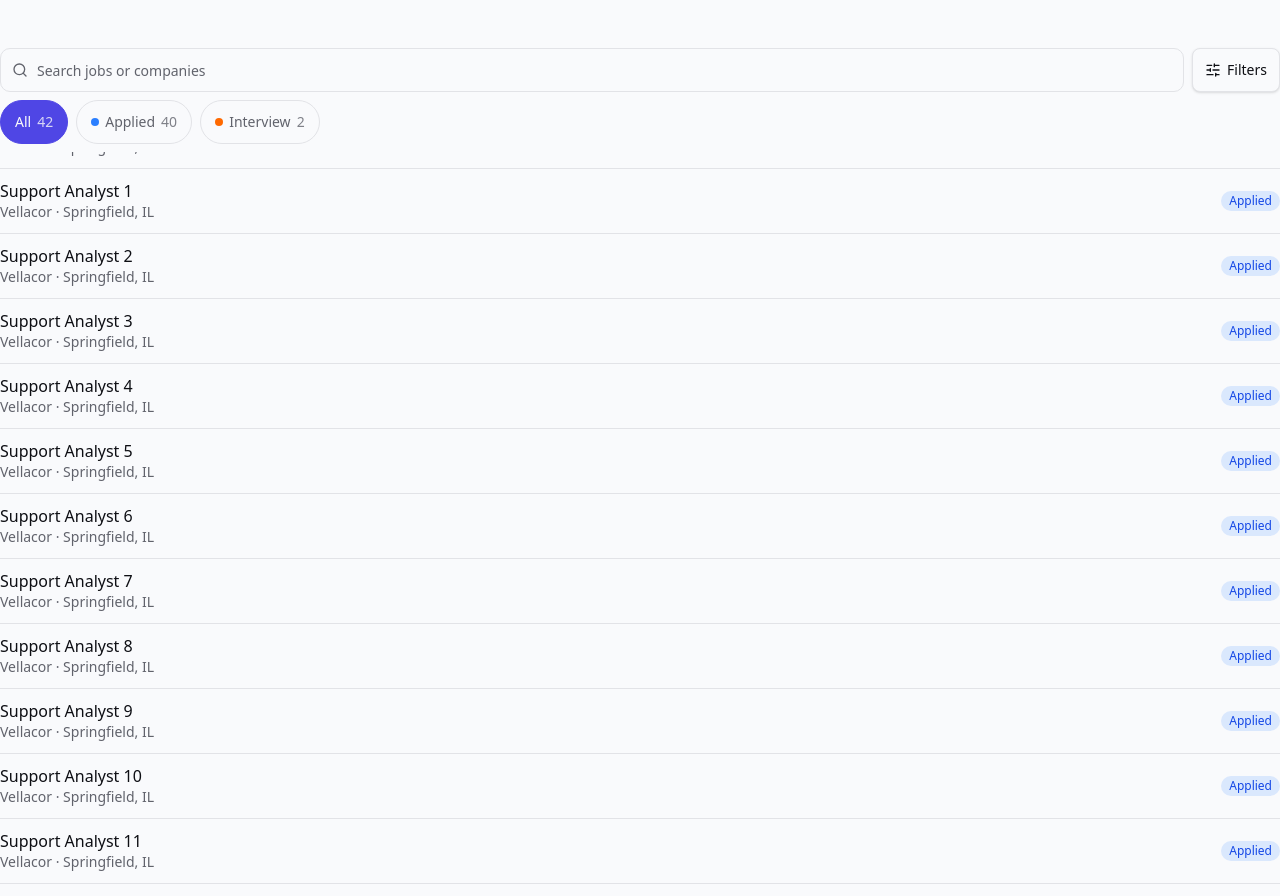
Test: PhoneJobList › the filter sheet says how many jobs it will show, and Clear undoes it
The image size is (1280, 896).
Click the button "Filters" at (1236, 70), box [1192,48,1279,92]
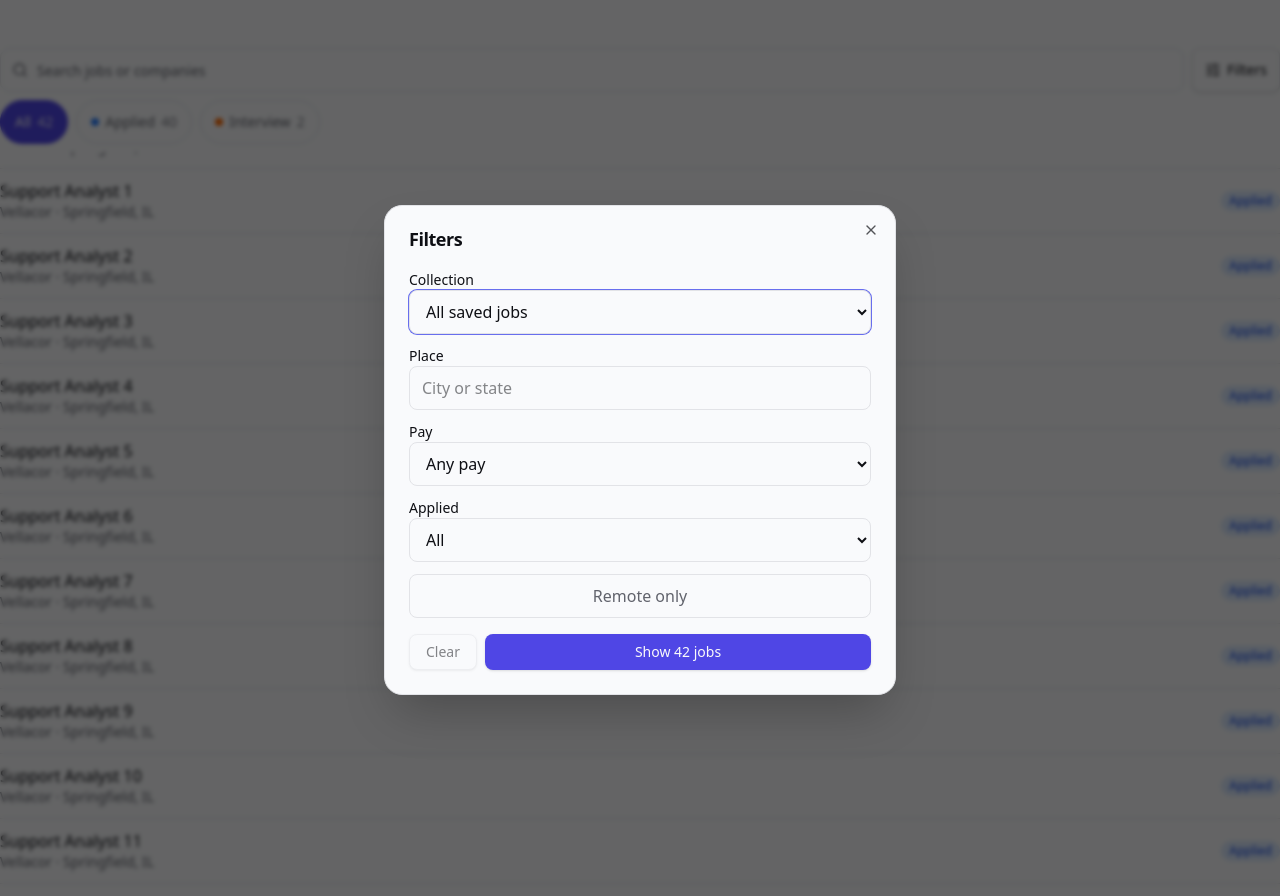
Result: the button "Show 42 jobs" is shown at [485,634,871,670]
Click the button "Remote only" at (640, 596), box [409,574,871,618]
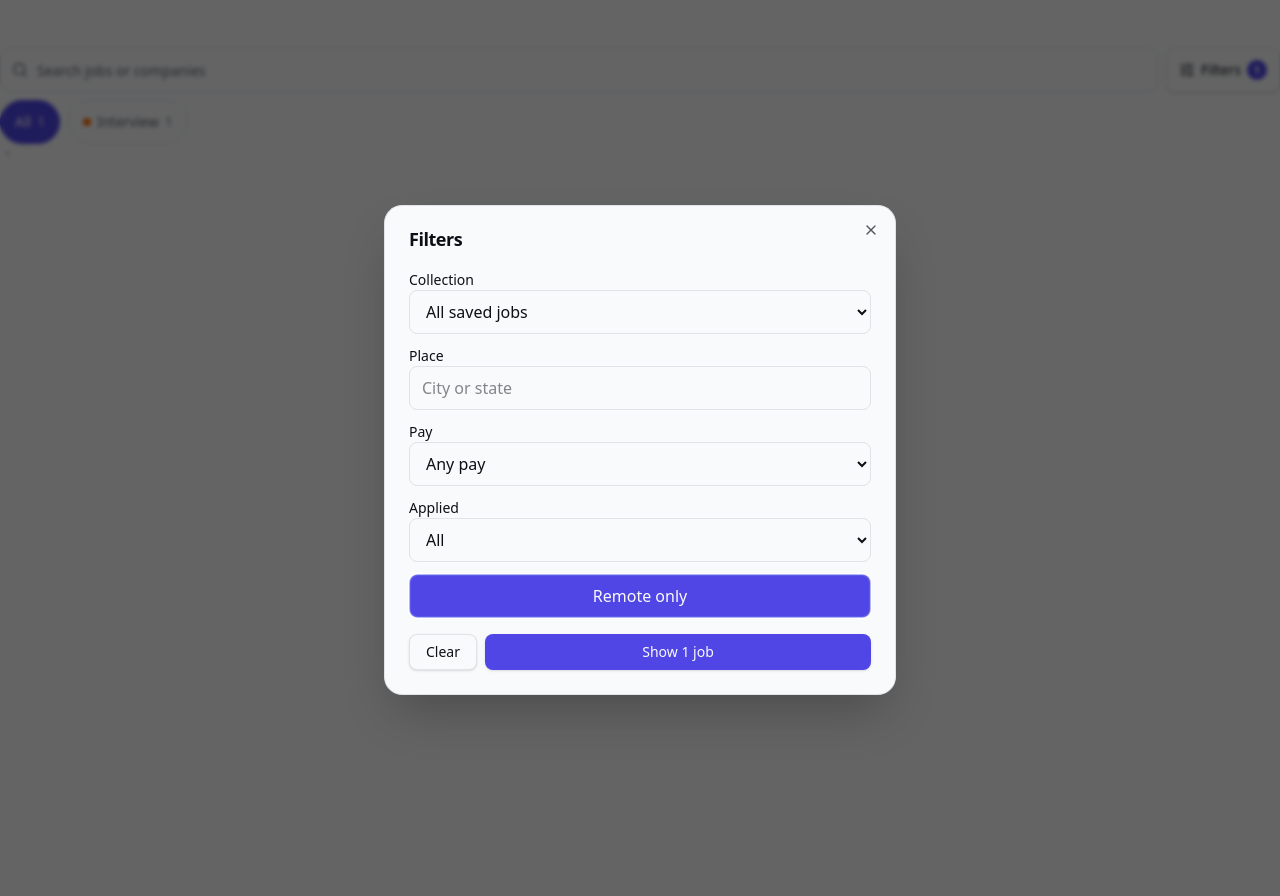
Result: the button "Show 1 job" is shown at [485,634,871,670]
Click the button "Clear" at (443, 652), box [409,634,477,670]
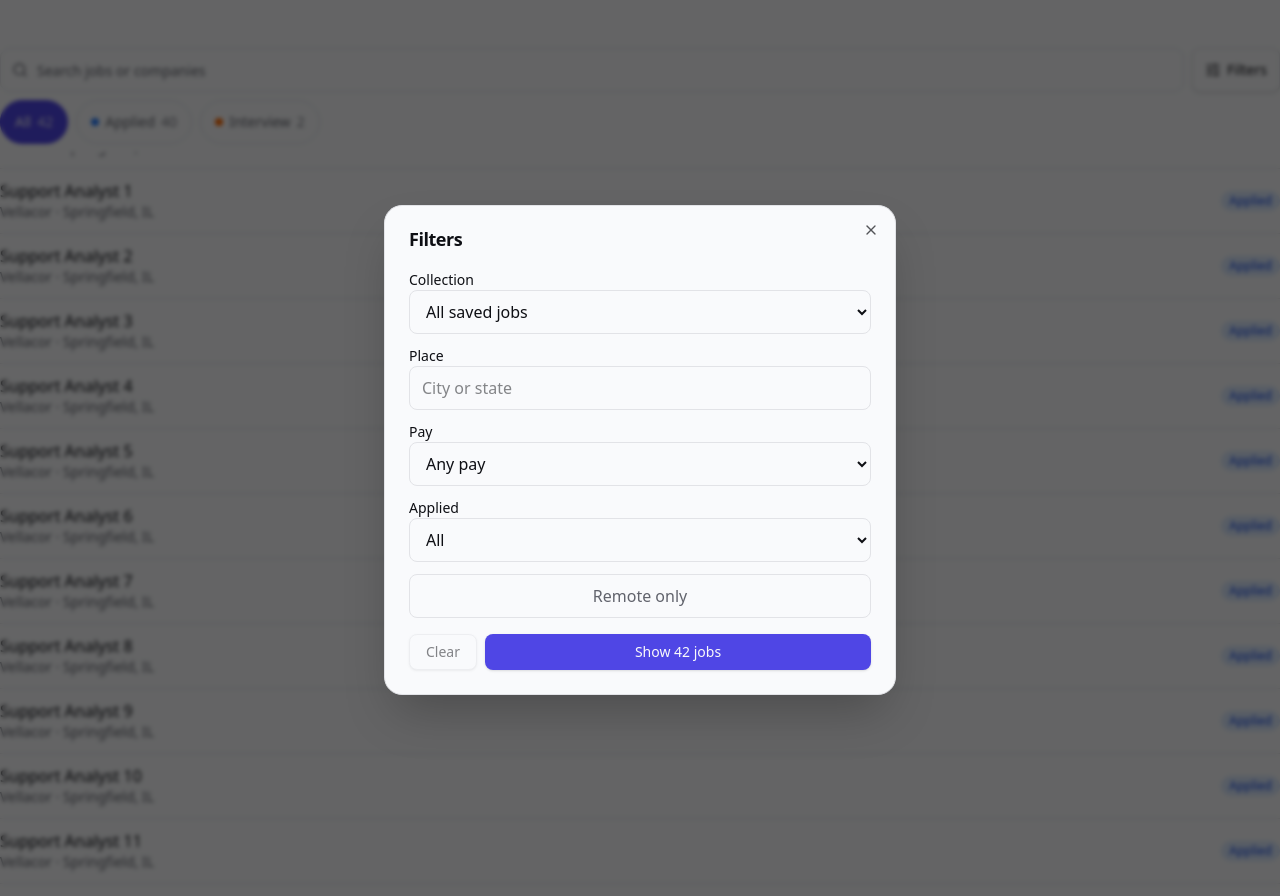
Result: the button "Show 42 jobs" is shown at [485,634,871,670]
